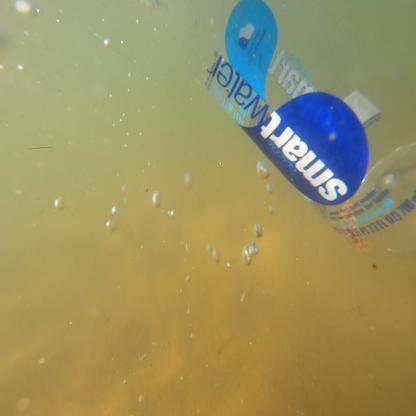Rác: (139, 2, 413, 254)
